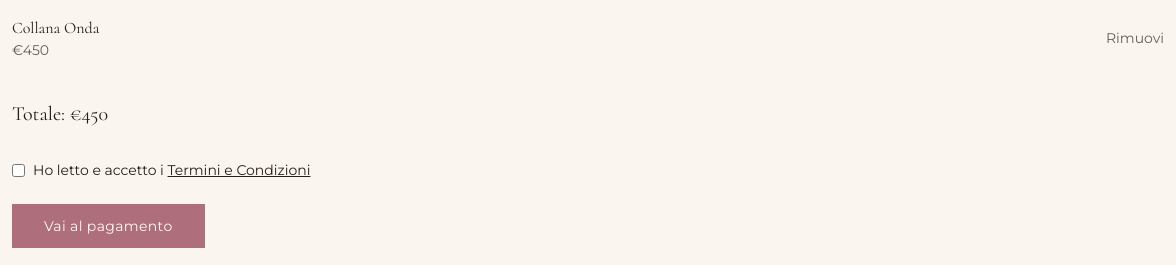
Test case: CartPageClient › lists items and disables checkout until consent is checked
Check: the text "Collana Onda" is shown, box top-left (12, 16), bottom-right (100, 40)
Check: the button "Vai al pagamento" is disabled, box top-left (12, 204), bottom-right (204, 248)
Click the checkbox: {"x": 18, "y": 170} top-left (12, 164), bottom-right (25, 177)
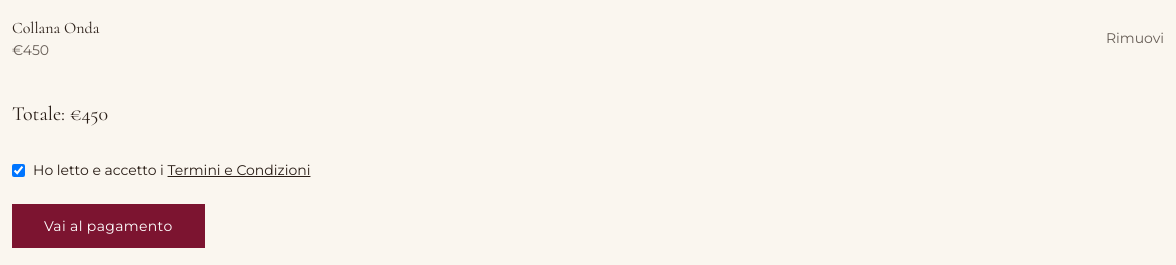
Check: the button "Vai al pagamento" is enabled, box top-left (12, 204), bottom-right (204, 248)
